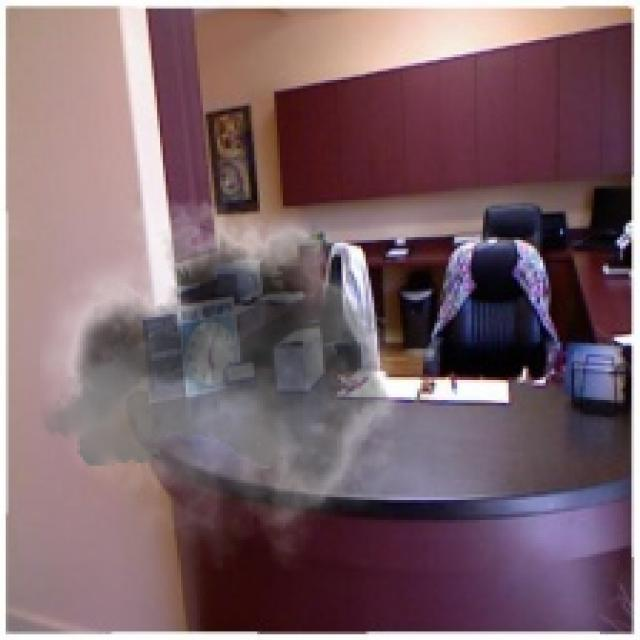smoke: (40, 180, 420, 571)
